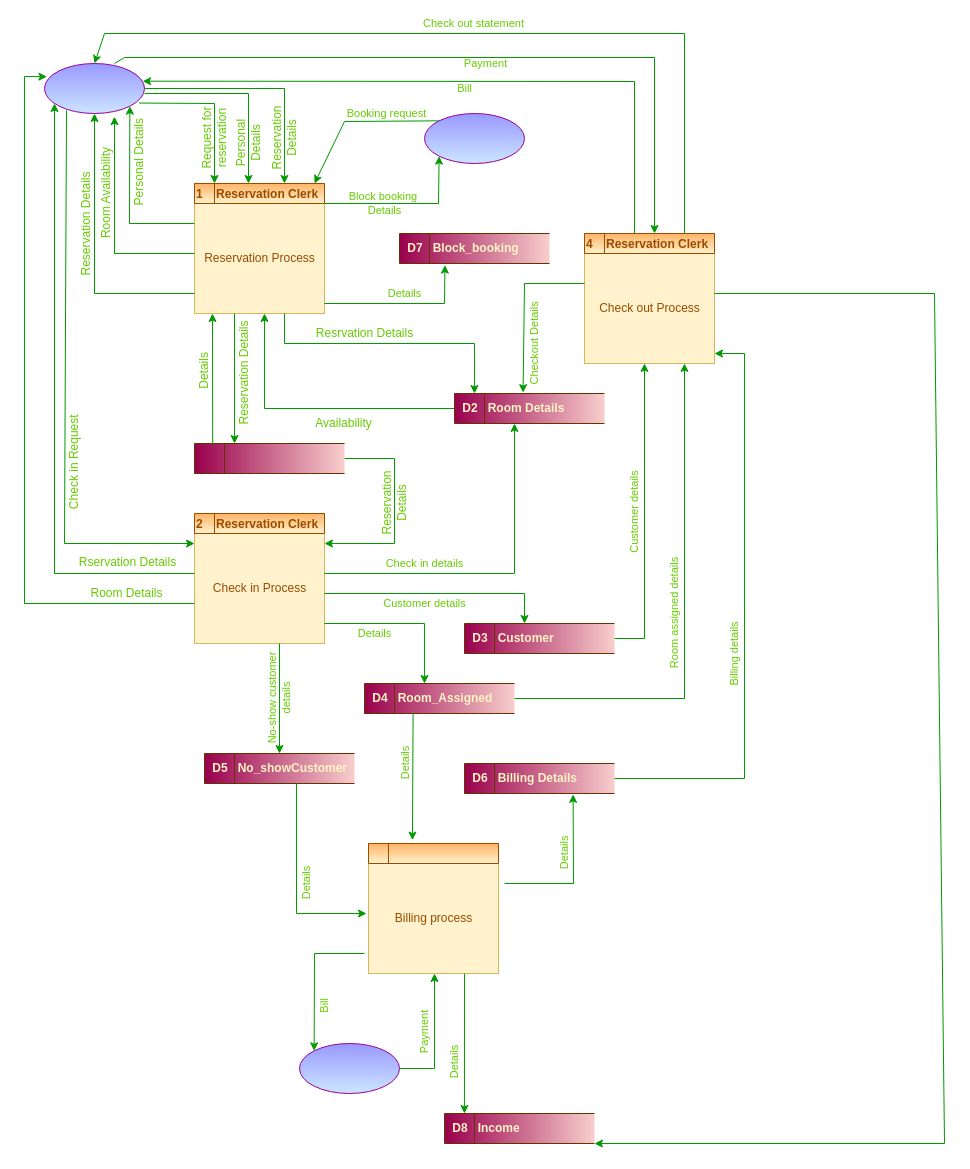
Image size: 970x1169. Some labels were removed from this diagram. The shapes that lost their labels are listed below. From the top down, each one's box as (x1, y1, x2, y2) in pixels, then its label:
(44, 62, 144, 114): Customer
(424, 112, 524, 164): Travel Company
(194, 442, 344, 474): D1 Temp_Reservation
(368, 842, 498, 864): 3 Accountant
(298, 1042, 400, 1094): No Show Customer
